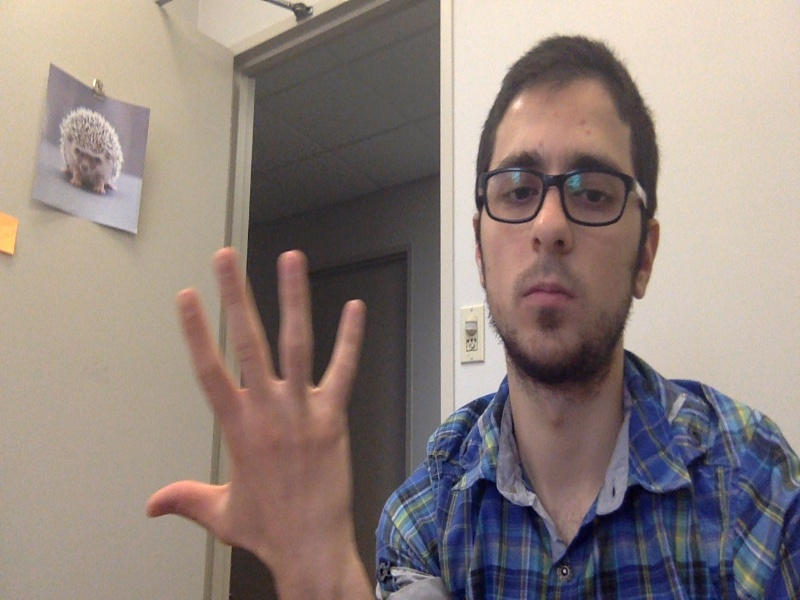5-hand: (142, 245, 373, 556)
